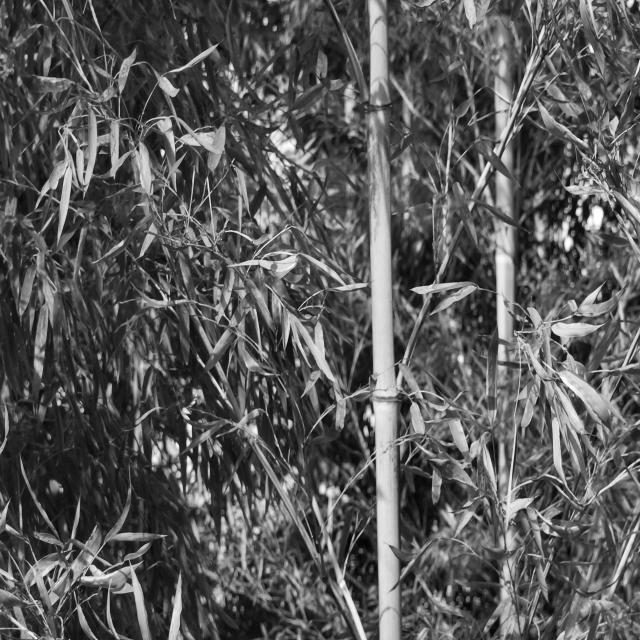Bamboo-shoots: (369, 0, 403, 640)
